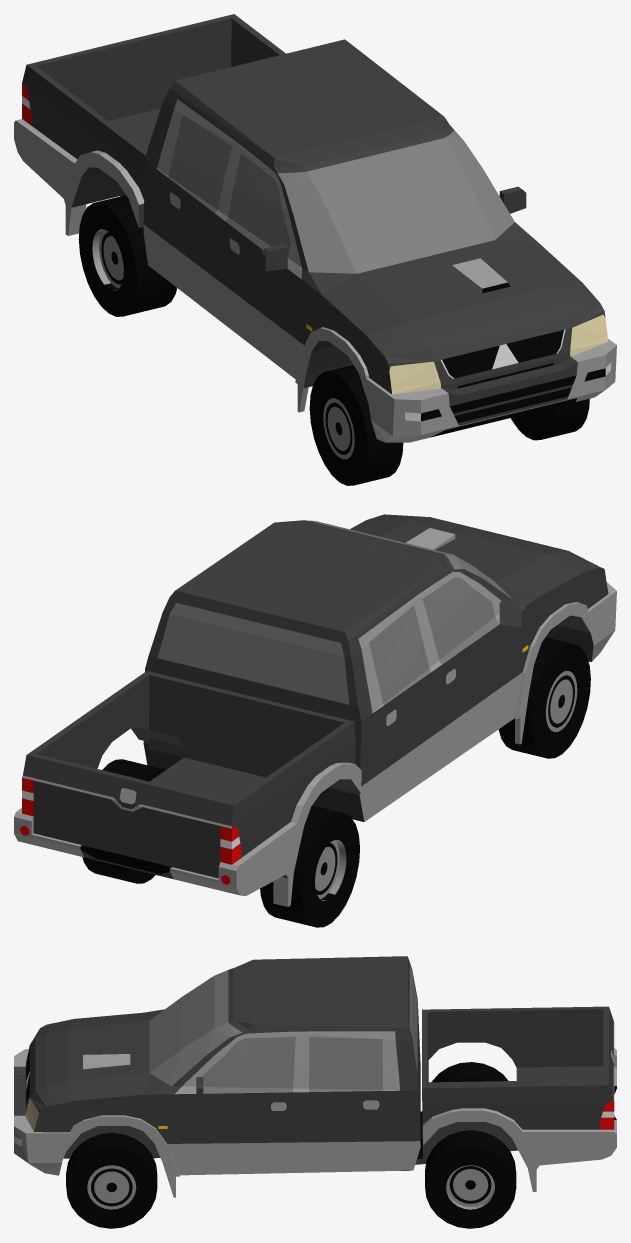
Rendered from mitsubishi-l200.glb.
3 renders of one model, top to bottom at view 1: azimuth 30°, elevation 25°; view 2: azimuth 150°, elevation 25°; view 3: azimuth 270°, elevation 25°, orthographic. The views are drawn at different scales.
Parts seen in each view (by area): view 1: Mesh1 Model, CG_wheel_1, CG_wheel_0, CG_wheel_2, Mesh4 Model; view 2: Mesh1 Model, CG_wheel_1, CG_wheel_0, CG_wheel_3, Mesh4 Model; view 3: Mesh1 Model, CG_wheel_3, CG_wheel_2, CG_wheel_1.
Boxes of the visible parts, box(x1,y1,x2,y2) form: Mesh1 Model: box(14, 14, 616, 442); CG_wheel_1: box(78, 195, 176, 316); CG_wheel_0: box(309, 365, 403, 485); CG_wheel_2: box(511, 398, 589, 440); Mesh4 Model: box(261, 244, 287, 271); Mesh1 Model: box(14, 514, 616, 906); CG_wheel_1: box(260, 805, 359, 927); CG_wheel_0: box(498, 637, 590, 758); CG_wheel_3: box(82, 759, 165, 883); Mesh4 Model: box(499, 599, 526, 627); Mesh1 Model: box(14, 956, 616, 1197); CG_wheel_3: box(425, 1130, 516, 1228); CG_wheel_2: box(66, 1132, 157, 1228); CG_wheel_1: box(431, 1062, 508, 1082).
Bounding box in the file's own units: 1.94 × 1.82 × 5.
